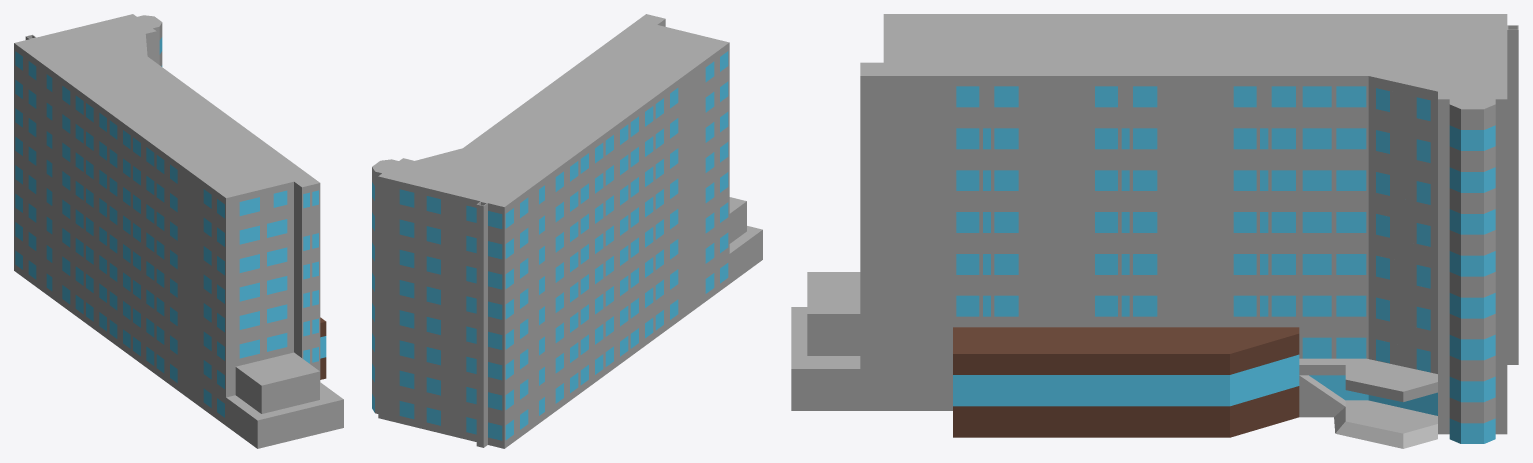
The model's file is OkUi.glb.
3 views of the same model, side by side, from view 1: azimuth 30°, elevation 25°; view 2: azimuth 150°, elevation 25°; view 3: azimuth 270°, elevation 25° (orthographic). The views are drawn at different scales.
Visible parts, largest first — view 1: Main, Window; view 2: Main, Window; view 3: Main, Window, Front.
Boxes of the visible parts, <box> form: Main: <box>14,14,343,448</box>; Window: <box>15,37,326,417</box>; Main: <box>372,14,762,448</box>; Window: <box>372,51,728,440</box>; Main: <box>791,14,1518,448</box>; Window: <box>953,86,1495,443</box>; Front: <box>953,327,1299,437</box>.
Bounding box in the file's own units: 20.5 × 32 × 63.
